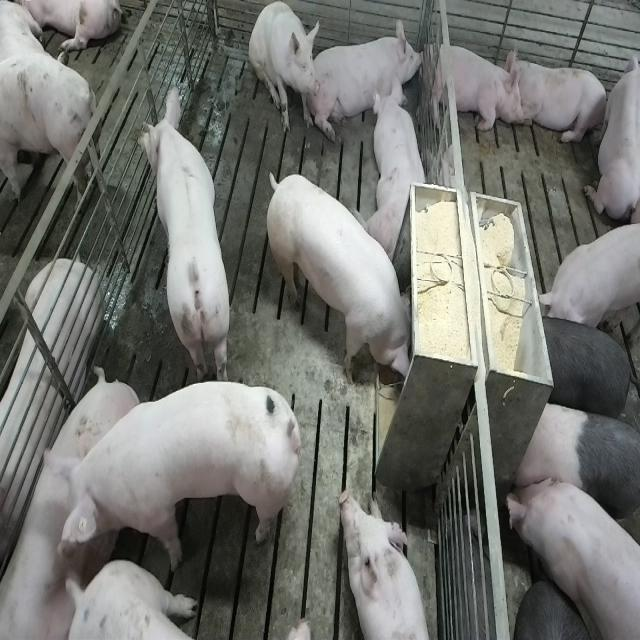Feeding: (271, 170, 421, 391)
Lateral_lying: (0, 256, 103, 634)
Sitting: (249, 2, 321, 137)
Standing: (50, 380, 220, 581), (137, 80, 233, 378), (504, 472, 638, 640), (510, 400, 638, 559), (0, 57, 106, 225), (533, 223, 636, 341), (61, 556, 199, 638), (538, 312, 637, 423)
Sternal_lying: (339, 484, 436, 640), (314, 15, 424, 136), (367, 76, 430, 258), (584, 40, 637, 225), (425, 36, 523, 136), (510, 52, 609, 148)
